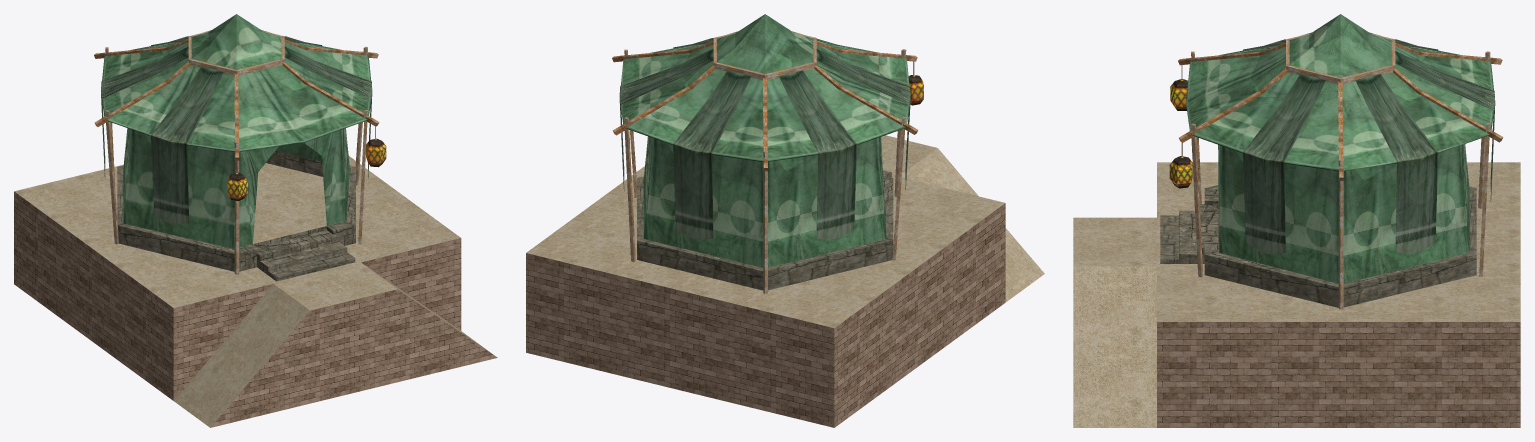
Rendered from ply_nboo_merchant_tent_s01_r0_mesh_l0.fbx.
3 renders of one model, left to right at view 1: azimuth 30°, elevation 25°; view 2: azimuth 150°, elevation 25°; view 3: azimuth 270°, elevation 25°, orthographic. The views are drawn at different scales.
Parts seen in each view (by area): view 1: mesh_node; view 2: mesh_node; view 3: mesh_node.
Part boxes in pixels (bbox=[...]): mesh_node: bbox=[14, 14, 497, 427]; mesh_node: bbox=[526, 14, 1044, 427]; mesh_node: bbox=[1073, 14, 1520, 427].
Bounding box in the file's own units: 9.05 × 8.81 × 10.7.
